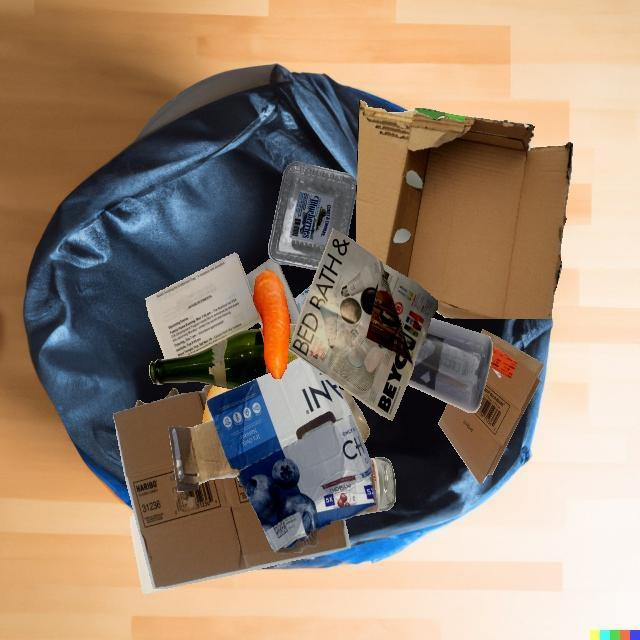biowaste: (253, 269, 290, 378), (203, 385, 231, 423)
cardboard: (113, 384, 351, 588), (356, 100, 572, 319), (168, 357, 377, 554), (438, 329, 544, 483), (165, 388, 179, 398), (135, 400, 146, 407)
glass: (149, 328, 271, 389), (354, 458, 396, 516), (339, 389, 370, 443)
paper: (289, 228, 438, 421), (145, 253, 260, 359), (130, 514, 181, 594)
plastic: (268, 161, 357, 270), (407, 318, 493, 412), (246, 258, 300, 325), (294, 285, 311, 313)
